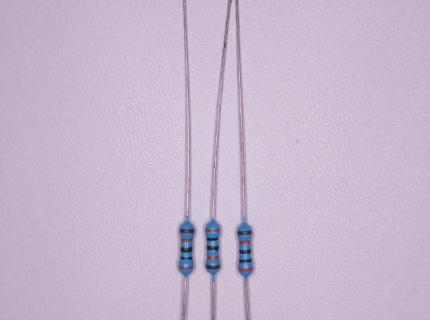Black band: (180, 247, 193, 253), (206, 236, 219, 242), (239, 249, 252, 255), (207, 246, 219, 251), (239, 259, 252, 263), (180, 257, 193, 260)
Brown band: (237, 230, 253, 235), (180, 229, 195, 234), (206, 265, 221, 270)
Orange band: (238, 267, 254, 272), (178, 266, 194, 270), (205, 228, 221, 232), (181, 238, 193, 243), (207, 255, 219, 260), (239, 240, 251, 245)
